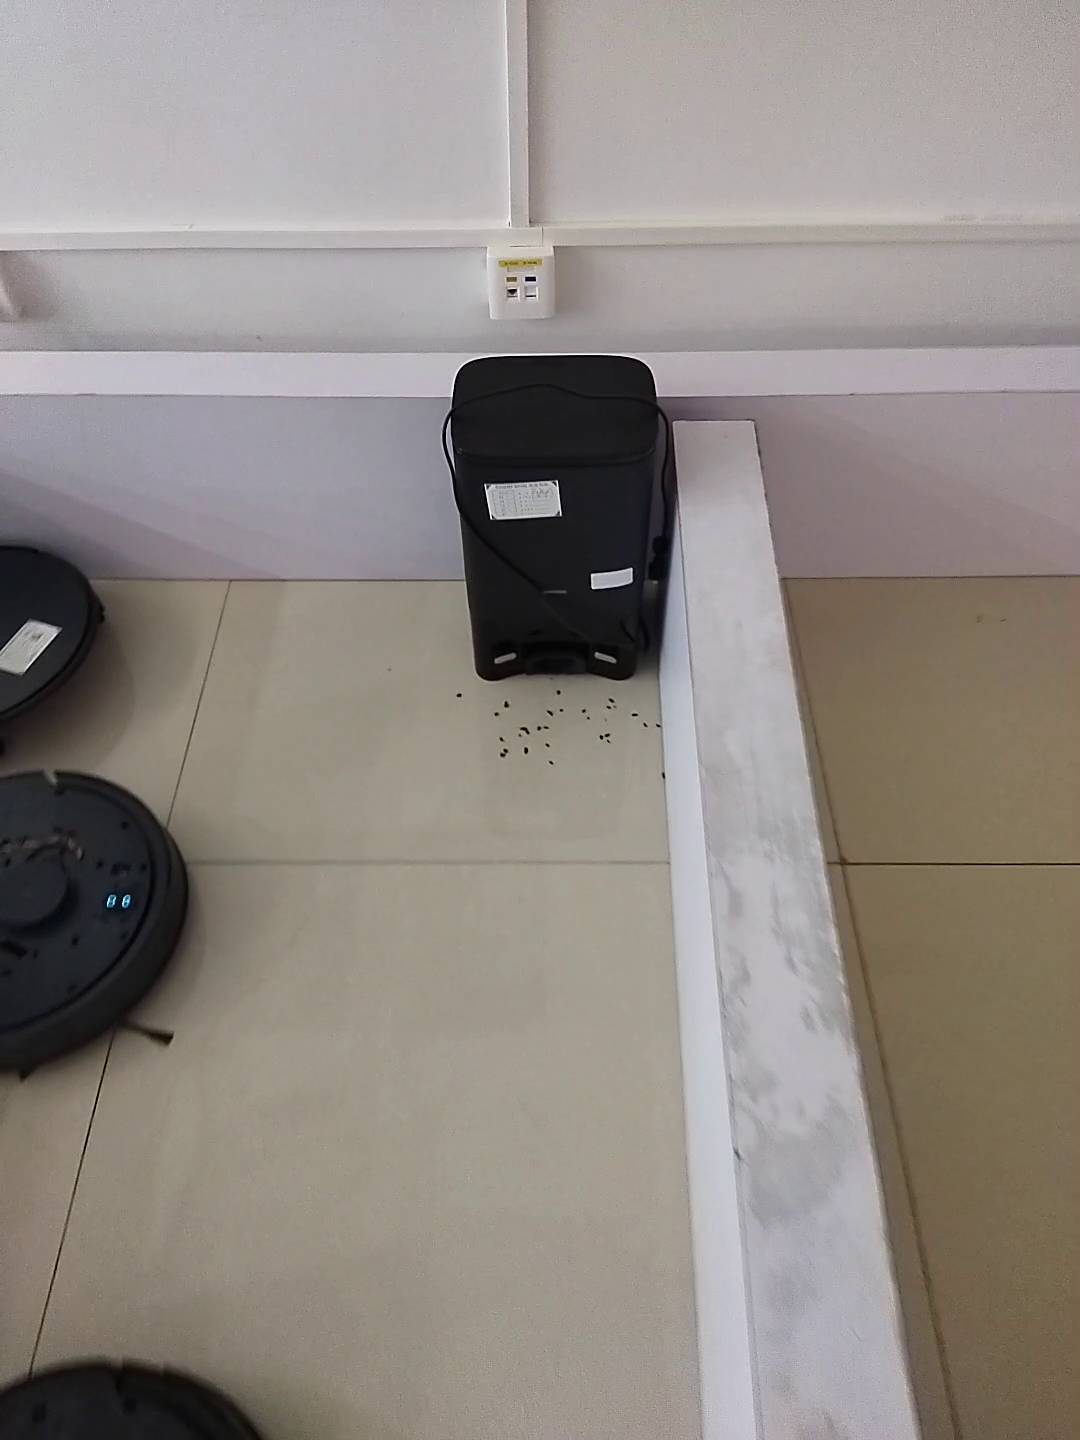dust collecting barrel: (449, 358, 663, 684)
